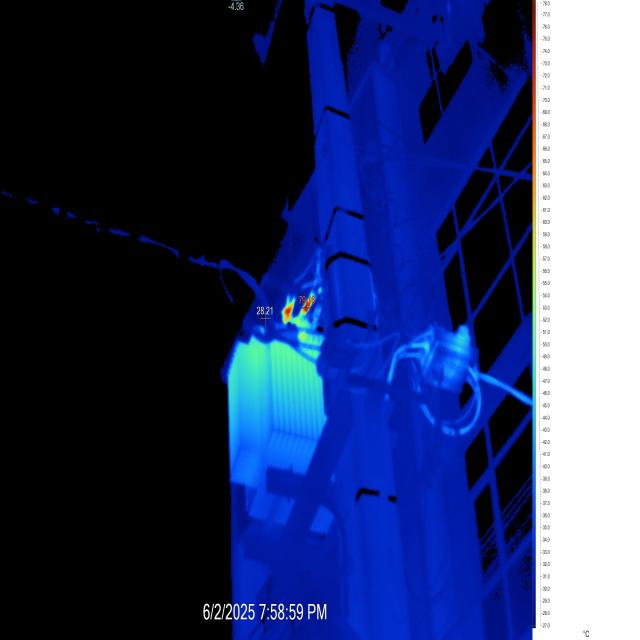Transformer: (4, 1, 532, 570)
